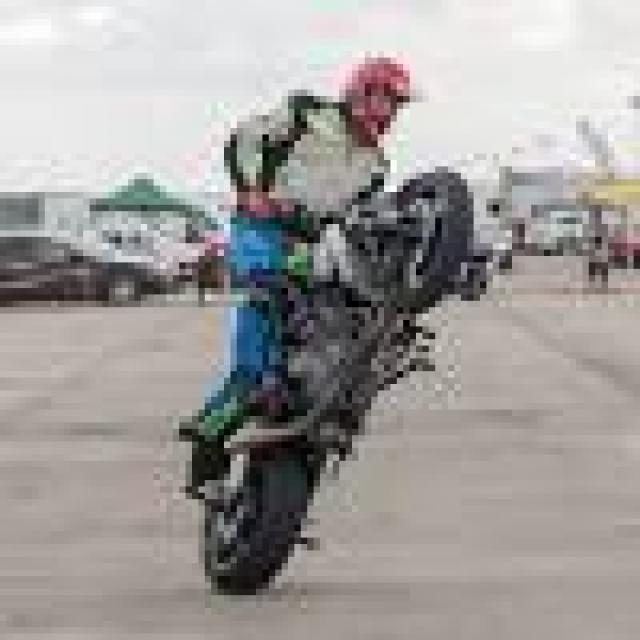Wheeling: (183, 5, 495, 588)
